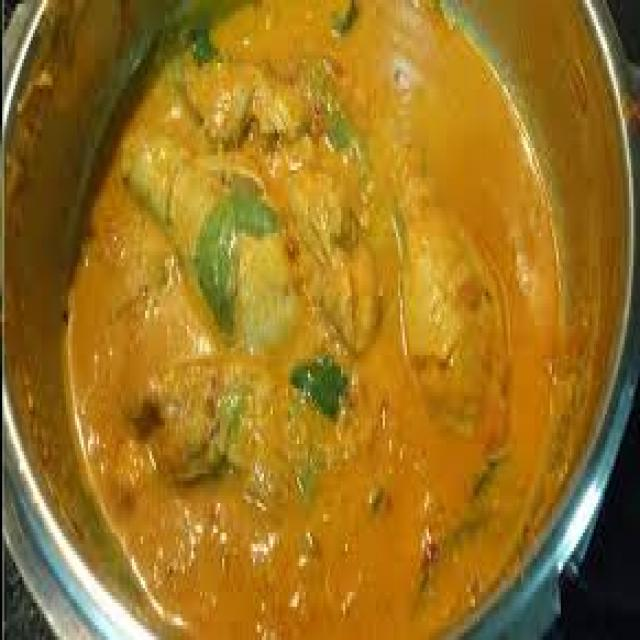Chicken Curry: (67, 3, 559, 640)
